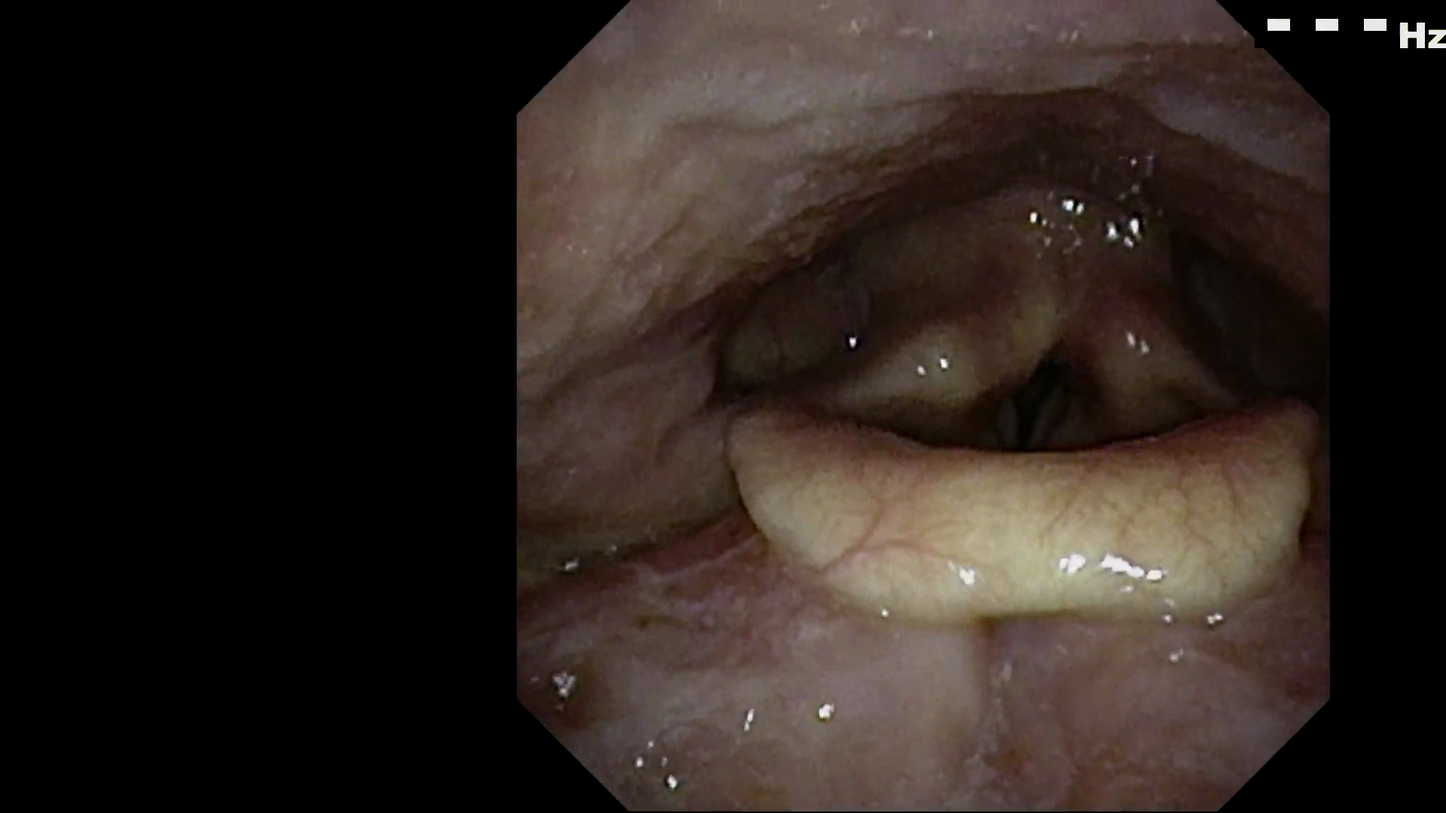epiglottis: (704, 375, 1321, 635)
trachea: (988, 334, 1106, 472)
